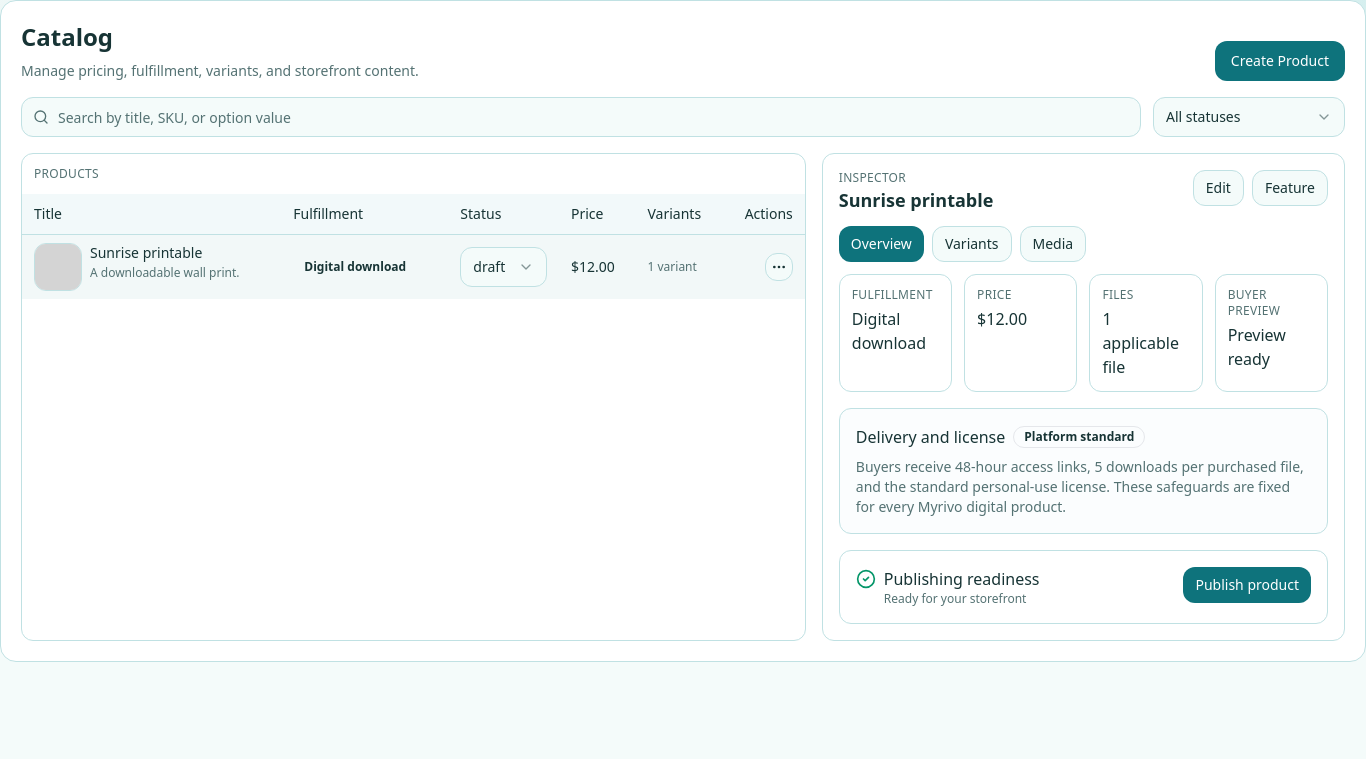
ProductManager digital catalog integration › refreshes readiness after a media mutation and refuses publish when the fresh catalog is blocked
The width and height of the screenshot is (1366, 759).
Click the tab "Media".
click(1053, 244)  # box [1020,226,1086,262]
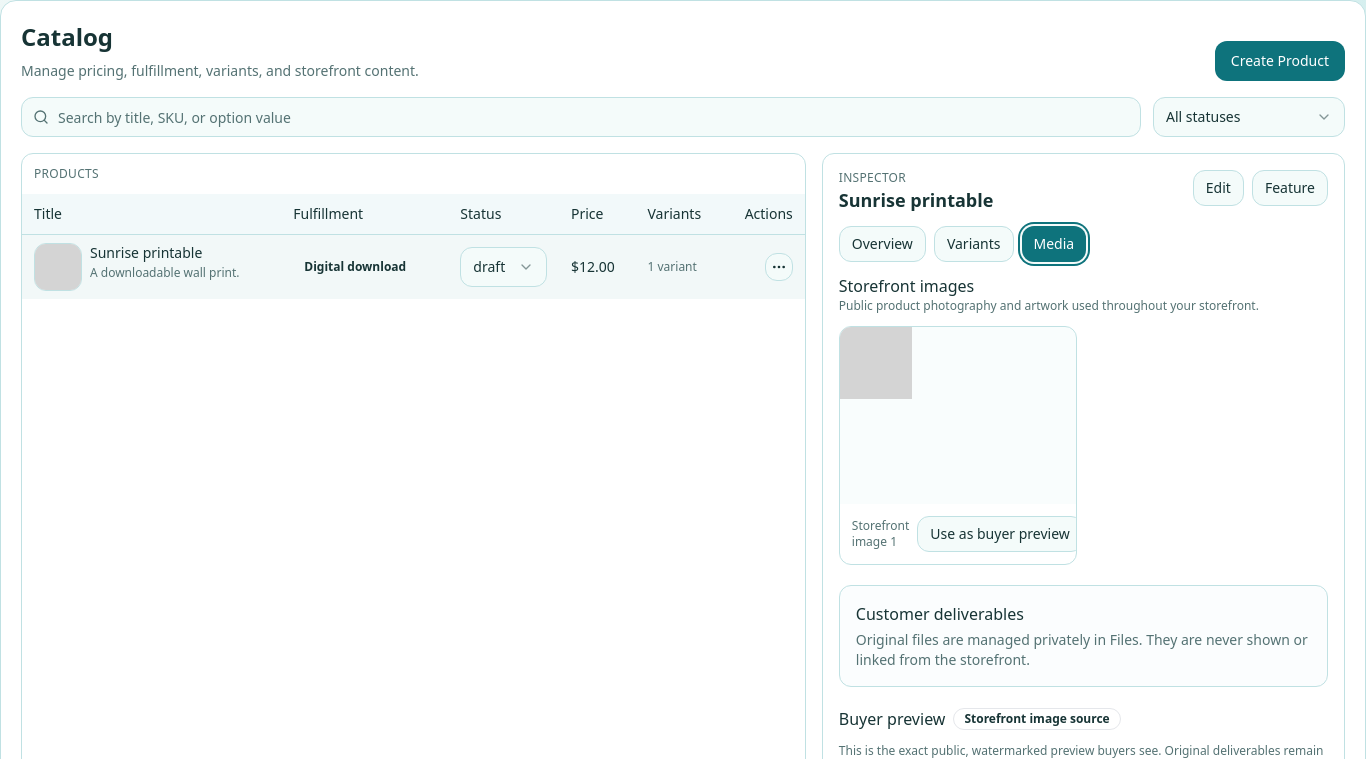
Click the button "Use as buyer preview".
click(1000, 534)  # box [917,516,1083,552]
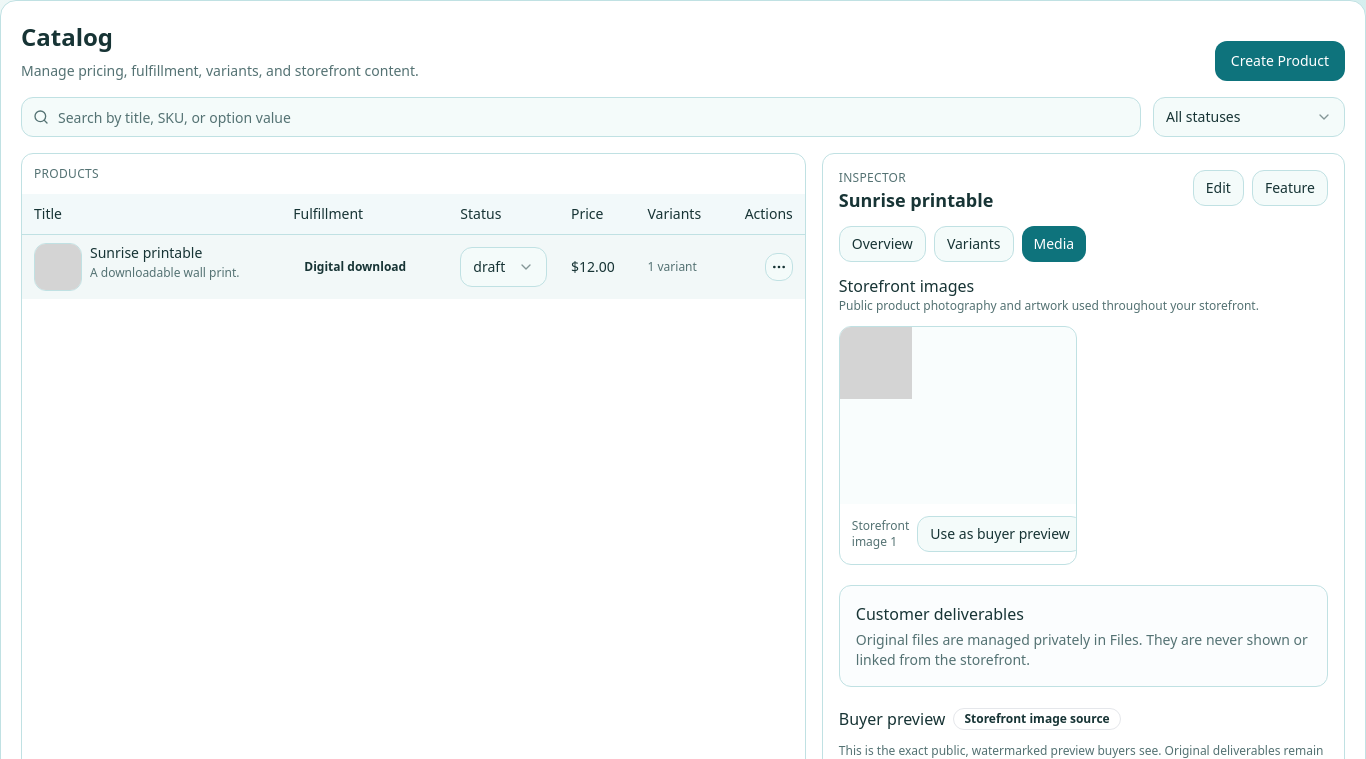
Click the tab "Overview".
click(882, 244)  # box [839,226,926,262]
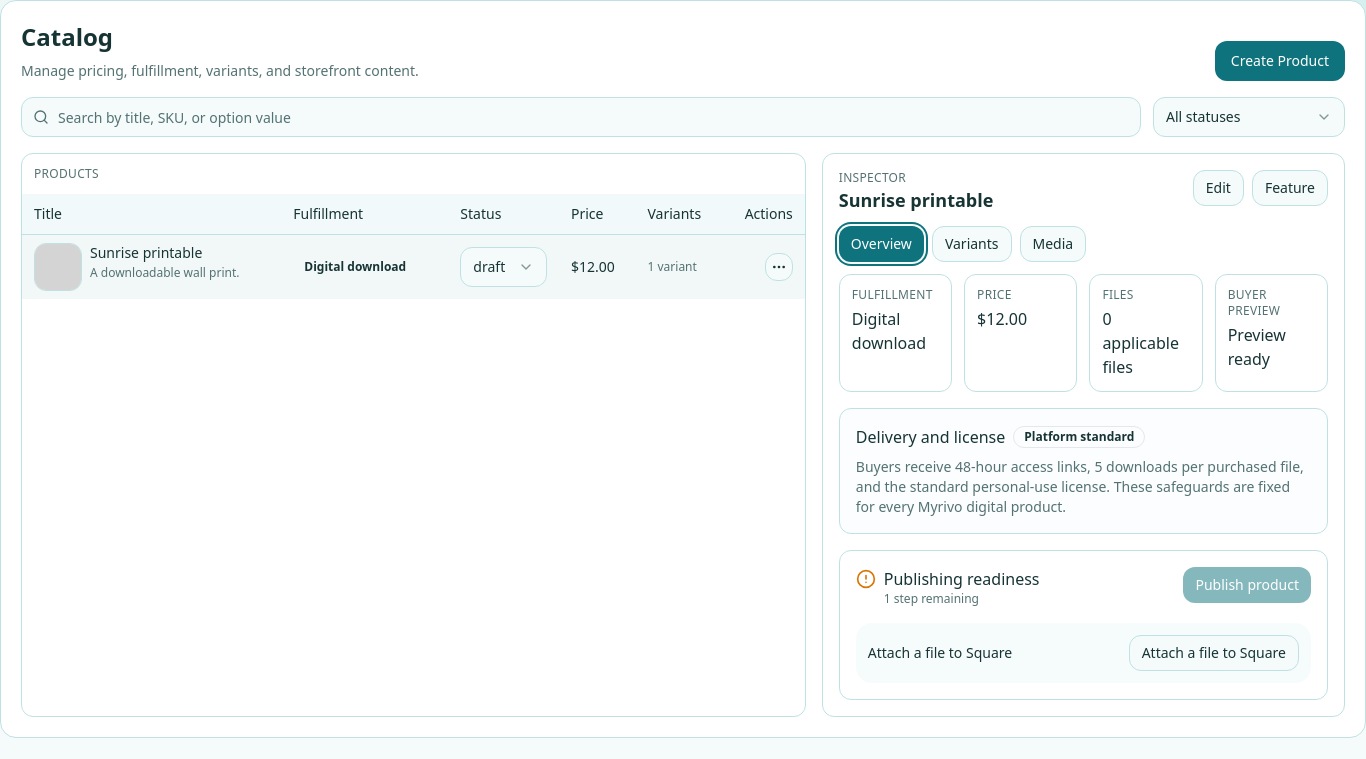
Now the text "1 step remaining" is shown, box [884,590,979,607]
Now the button "Publish product" is disabled, box [1183,567,1311,603]
